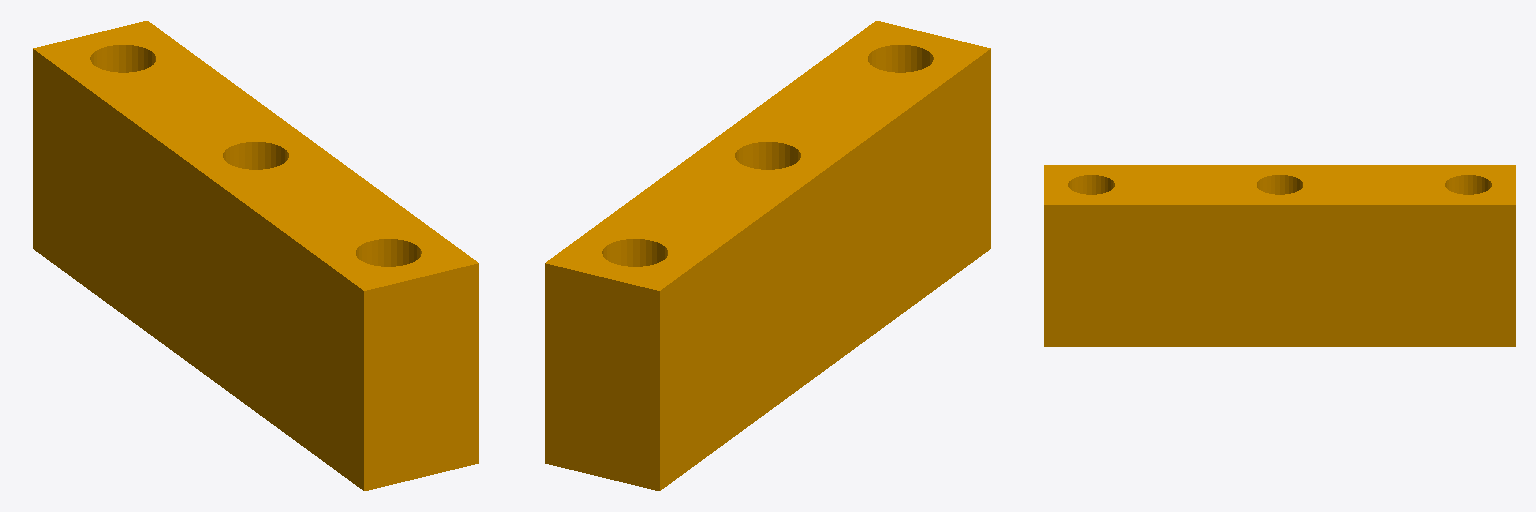
The robot description file, URDF, robot "screwdriver_holder":
<?xml version="1.0" ?>
<robot name="screwdriver_holder">
  <link name="_name">
  
    <visual>
      <origin rpy="0 0 0" xyz="0 0 0" />
      <geometry>
        <mesh filename="screwdriver_holder.obj" scale="1 1 1" />
      </geometry>
    </visual>
    
    <collision>
      <origin rpy="0 0 0" xyz="0 0 0" />
      <geometry>
        <mesh filename="screwdriver_holder.obj" scale="1 1 1" />
      </geometry>
    </collision>
    
    <inertial>
      <origin rpy="0 0 0" xyz="0.0 0.0 0.0" />
      <mass value="0.1" />
      <inertia ixx="1.0" ixy="0.0" ixz="0.0" iyy="1.0" iyz="0.0" izz="1.0" />
    </inertial>
    
  </link>
</robot>

--- Facts derived from the render (not from the file) ---
3 views of the same robot in one strip: view 1: azimuth 30°, elevation 25°; view 2: azimuth 150°, elevation 25°; view 3: azimuth 270°, elevation 25° (orthographic).
Model screwdriver_holder with 1 links and 0 joints (none), rooted at _name, posed every joint at zero.
Links seen in each view (by area): view 1: _name; view 2: _name; view 3: _name.
Link boxes in pixels (x1=…): _name: x1=33, y1=21, x2=478, y2=490; _name: x1=545, y1=21, x2=990, y2=490; _name: x1=1044, y1=165, x2=1515, y2=346.
Bounding box of the posed robot: 0.03 × 0.15 × 0.05 m (x, y, z).
1 mesh visuals loaded from 1 distinct referenced files (1 OBJ).
